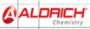SigmaAldrich: (1, 5, 88, 26)
